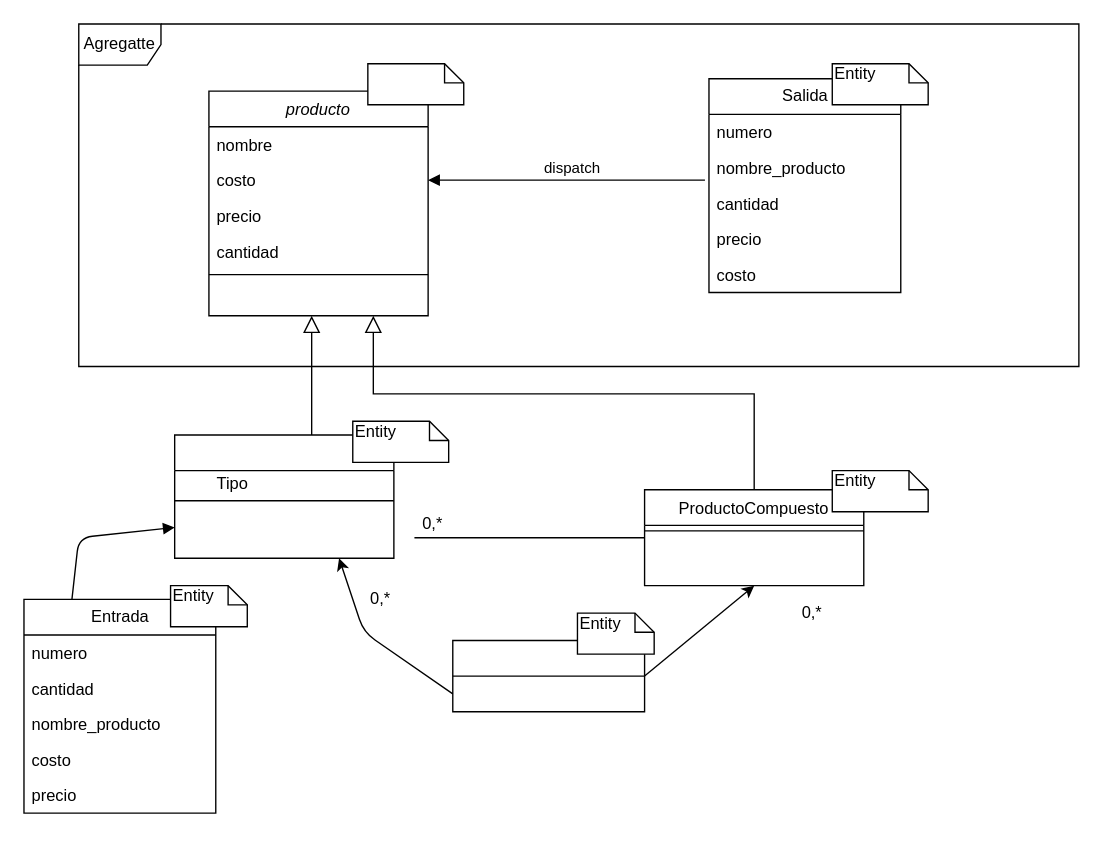
The diagram is 1103 pixels wide and 841 high, and some of its shapes have lost their labels. Here are the shapes that lost their labels. From the top down, the centre of each, then its label:
At point (415, 83): "Root".
At point (283, 496): "ProductoSimple".
At point (548, 675): "Combo".
